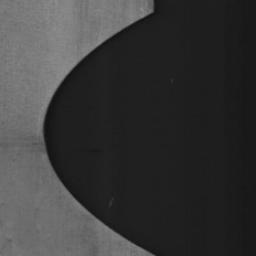Crescent gap: (43, 13, 153, 254)
